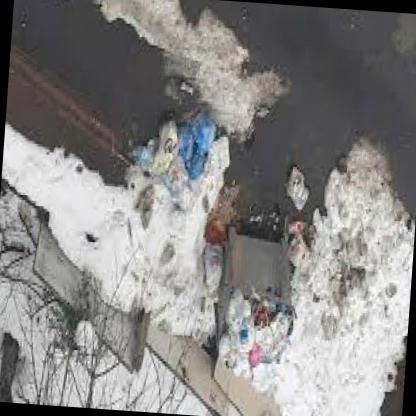Garbage: (130, 106, 235, 212), (224, 306, 288, 379), (230, 309, 268, 358), (204, 131, 233, 190), (156, 123, 186, 177), (250, 313, 277, 364), (287, 222, 310, 280), (282, 176, 312, 217), (196, 244, 220, 292), (278, 161, 306, 200), (186, 145, 208, 190), (246, 350, 264, 368)
